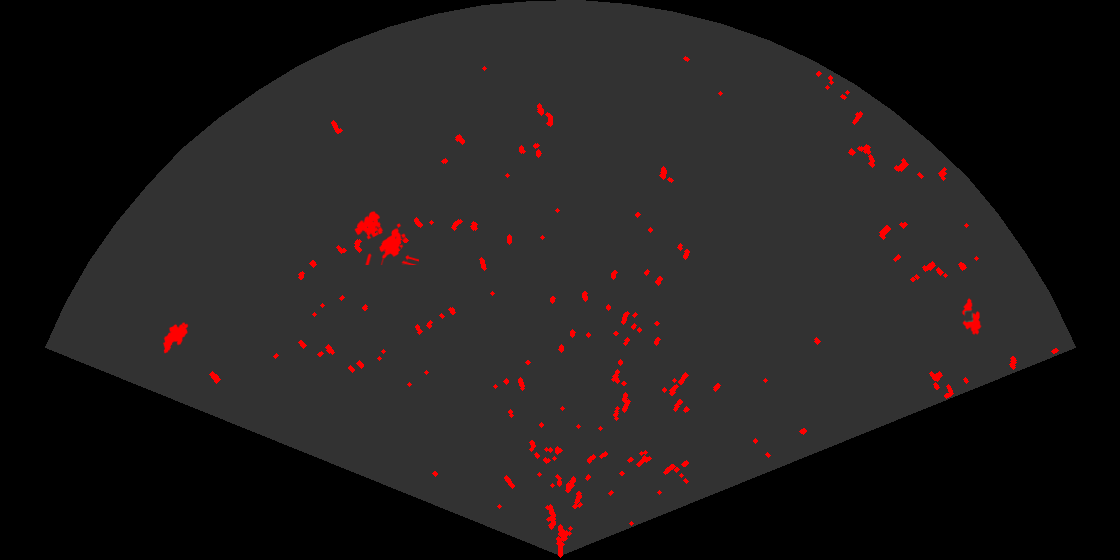AUV: (162, 321, 190, 355), (960, 296, 983, 337)
cage: (353, 209, 419, 265)
